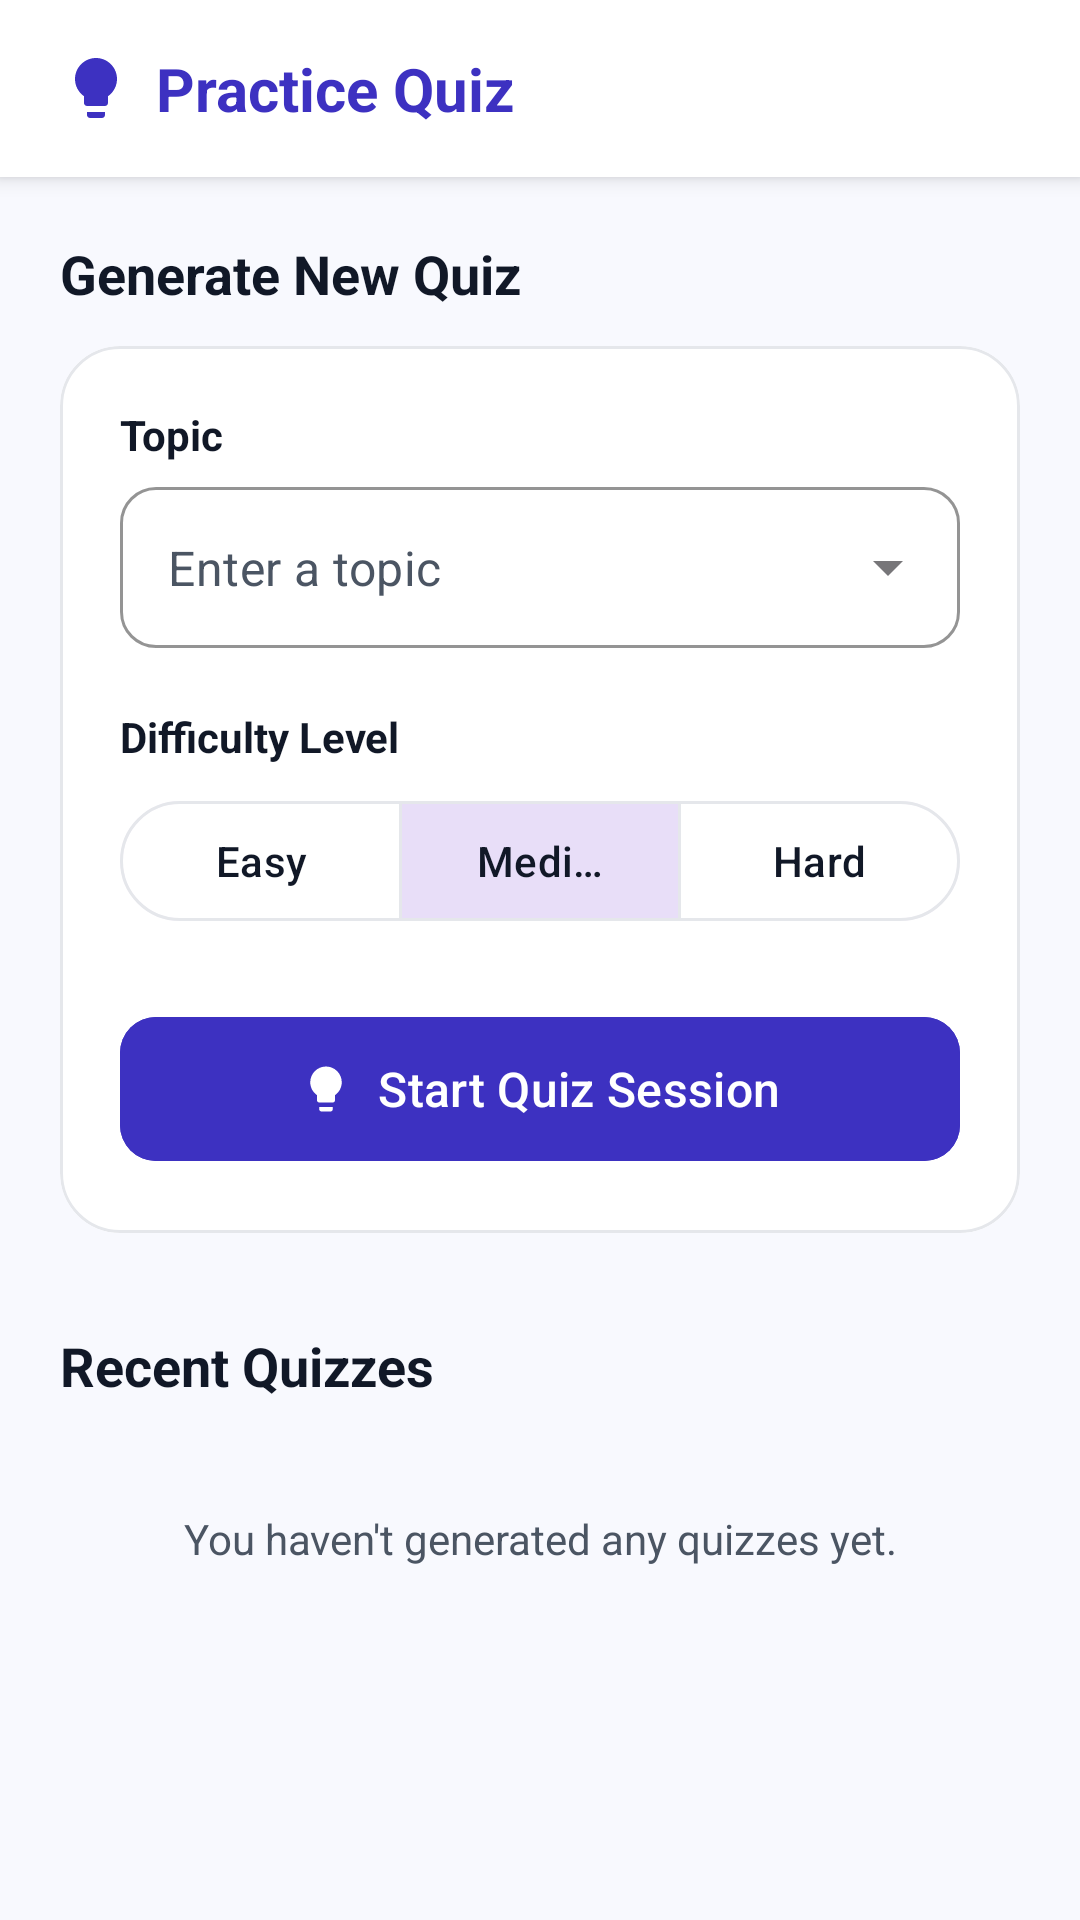

Icon click points for this 1080x1920 phone screenshot, format (x=x, y=y):
lightbulb: (x=96, y=88)
